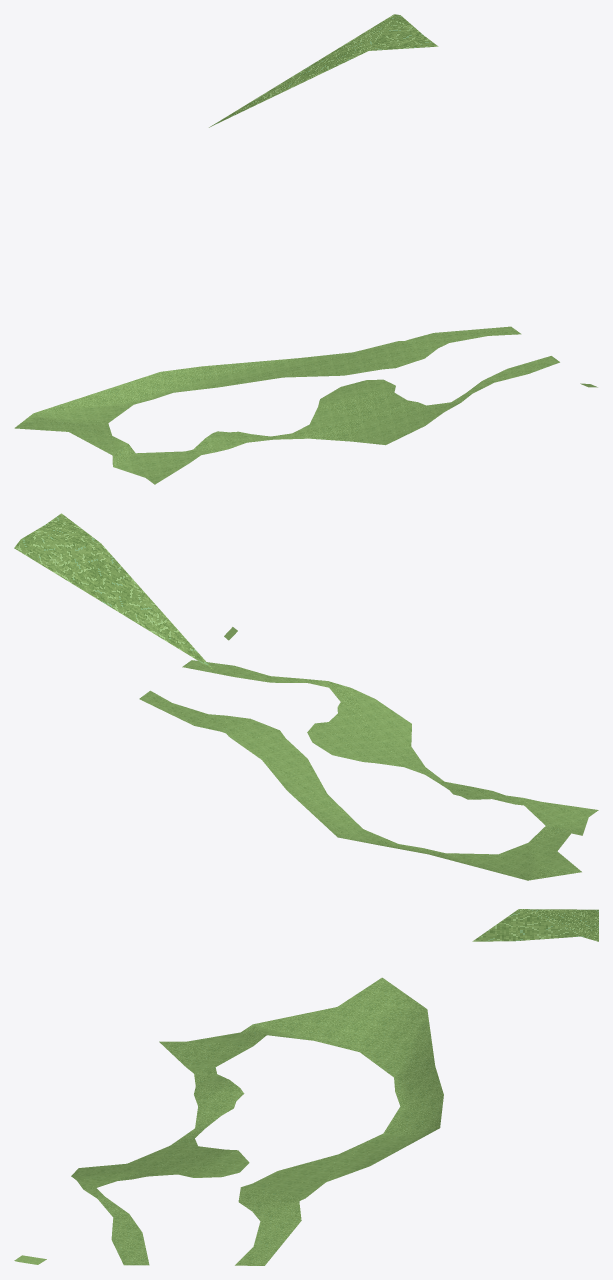
File: kd_stage_13612f_0_6_bounded.glb
3 views of the same model, one above another, from view 1: azimuth 30°, elevation 25°; view 2: azimuth 150°, elevation 25°; view 3: azimuth 270°, elevation 25° (orthographic). The views are drawn at different scales.
Visible parts, largest first — view 1: kd_stage_13612f_0_6_bounded; view 2: kd_stage_13612f_0_6_bounded; view 3: kd_stage_13612f_0_6_bounded.
Part boxes in pixels (x1,y1,x2,y2): kd_stage_13612f_0_6_bounded: [14, 14, 597, 484]; kd_stage_13612f_0_6_bounded: [14, 513, 598, 880]; kd_stage_13612f_0_6_bounded: [14, 909, 598, 1265].
Size of the model in its own units: 95.32 by 53.03 by 74.11.
Materials: 1 (1 with a texture image).
